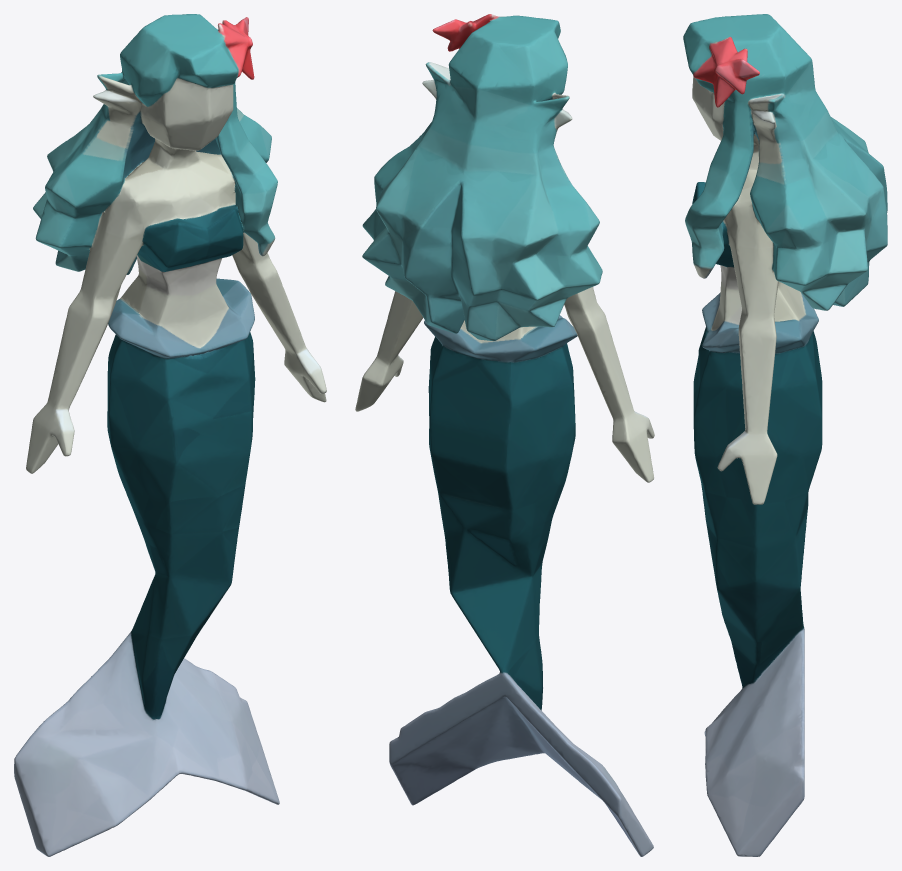
The model's file is sirena.glb.
3 renders of one model, left to right at view 1: azimuth 30°, elevation 25°; view 2: azimuth 150°, elevation 25°; view 3: azimuth 270°, elevation 25°, orthographic.
Visible parts, largest first — view 1: world; view 2: world; view 3: world.
Boxes of the visible parts, bbox=[...] form: world: bbox=[14, 14, 326, 856]; world: bbox=[355, 14, 654, 856]; world: bbox=[683, 14, 887, 856].
Bounding box in the file's own units: 0.3871 × 0.9994 × 0.2347.
Materials: 1 (1 with a texture image).
